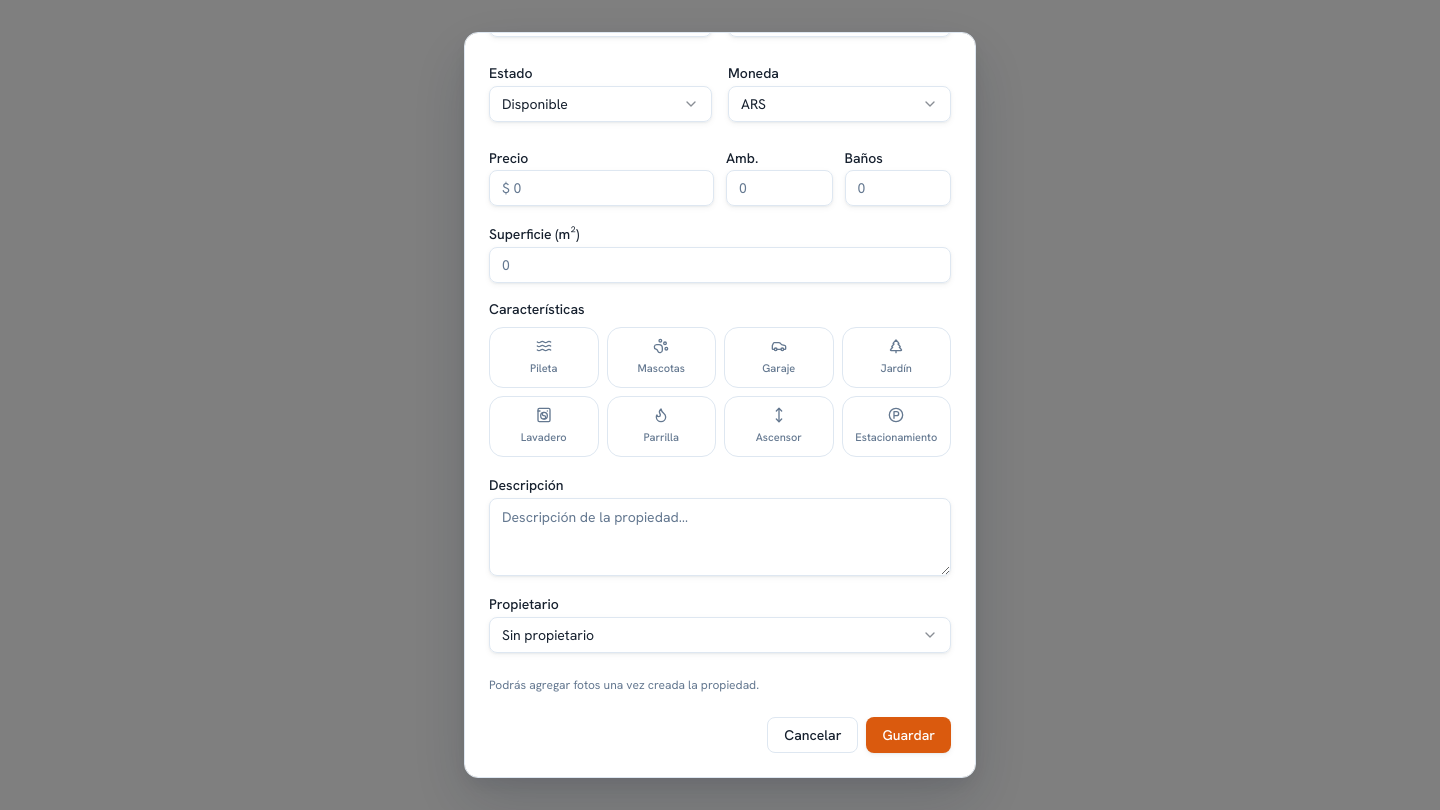
Test: CreatePropertyDialog › shows validation error and blocks submit when address is empty
(page scrolled)
Click the button "Guardar": x=909, y=735 left=866, top=717, right=951, bottom=753
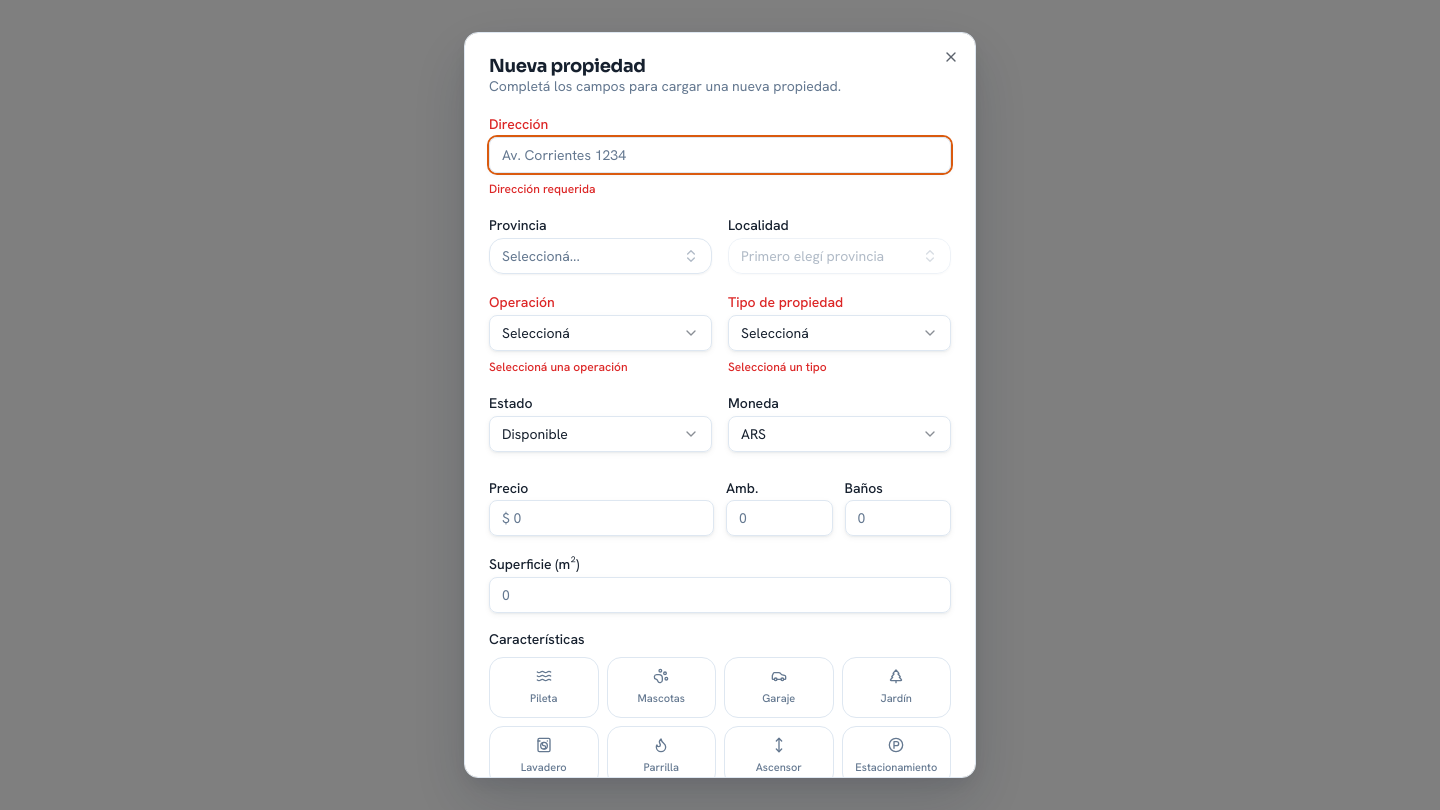
Now the text "Dirección requerida" is shown, box left=489, top=181, right=595, bottom=197
